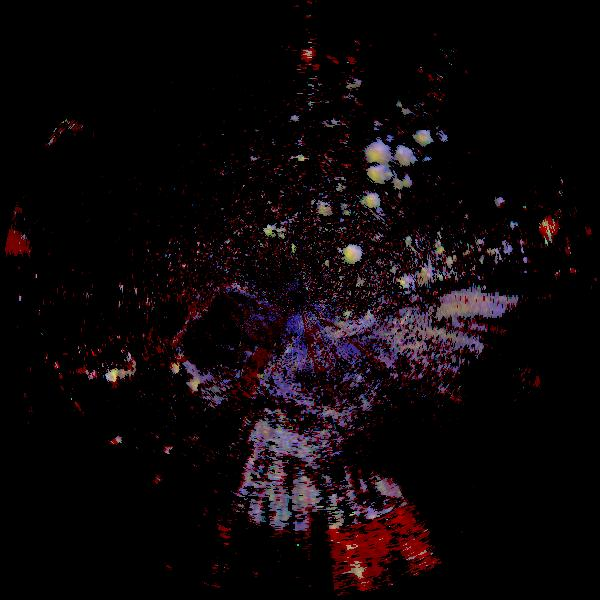roost: (106, 428, 124, 446), (168, 362, 183, 377), (107, 370, 119, 382)
